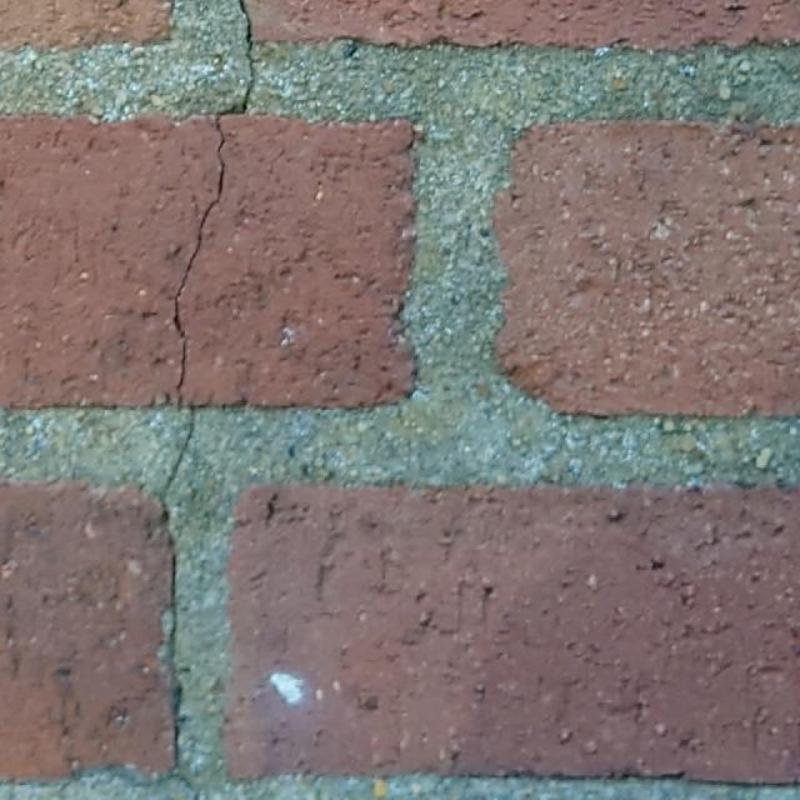crack: (174, 0, 258, 411), (153, 405, 195, 776)
